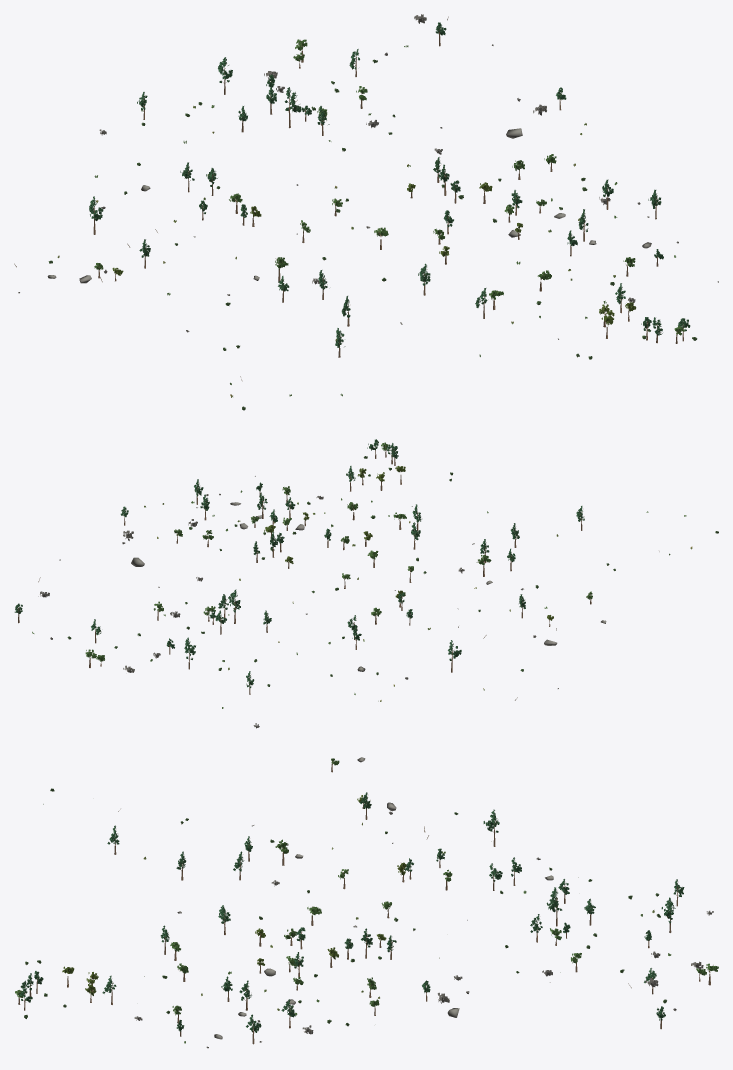
The model's file is arch_land_scatter_c17_18.glb.
3 renders of one model, top to bottom at view 1: azimuth 30°, elevation 25°; view 2: azimuth 150°, elevation 25°; view 3: azimuth 270°, elevation 25°, orthographic. The views are drawn at different scales.
Visible parts, largest first — view 1: arch_land_scatter_c17_18; view 2: arch_land_scatter_c17_18; view 3: arch_land_scatter_c17_18.
Part boxes in pixels (x1,y1,x2,y2): arch_land_scatter_c17_18: (14,14,718,410); arch_land_scatter_c17_18: (14,439,718,728); arch_land_scatter_c17_18: (15,757,718,1048).
Bounding box in the file's own units: 220 × 31.72 × 256.
